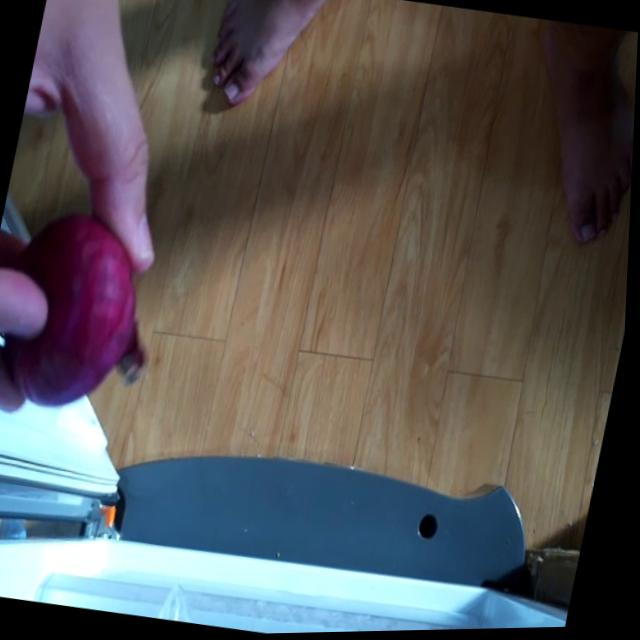onion: (0, 199, 155, 420)
